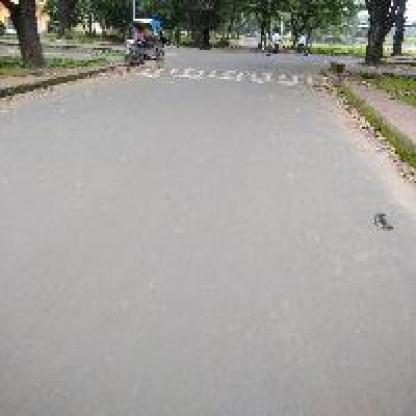Speed Bump: (137, 64, 310, 86)
